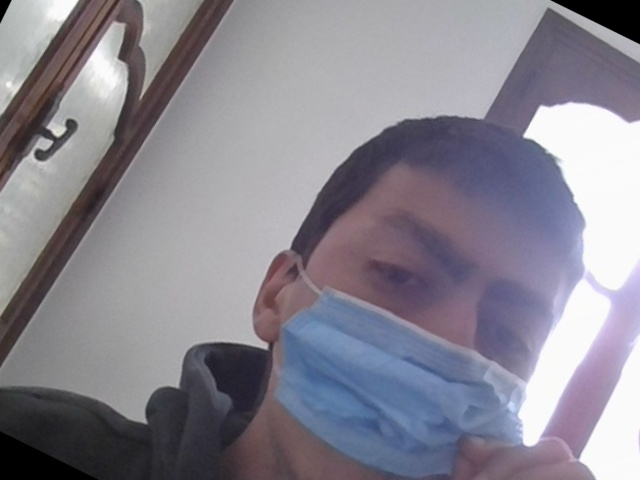mask_weared_incorrect: (282, 155, 576, 479)
